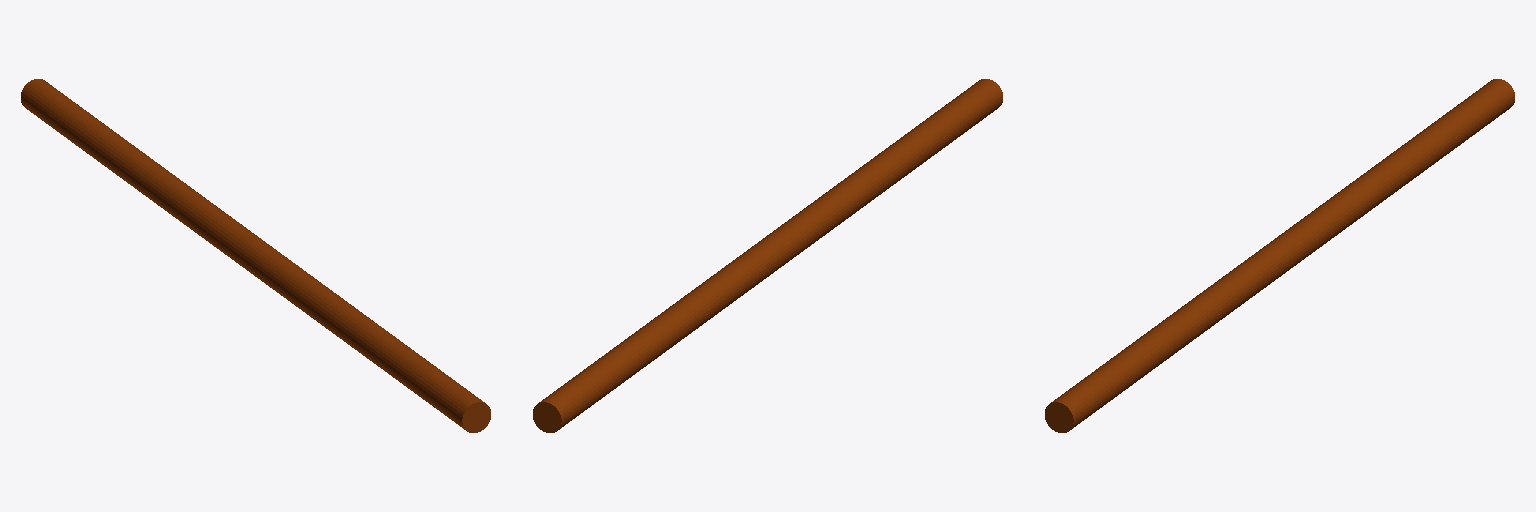
The robot description file, URDF, robot "cylinder":
<?xml version="1.0" ?>
<!-- =================================================================================== -->
<!-- |    This document was autogenerated by xacro from cylinder.xacro                 | -->
<!-- |    EDITING THIS FILE BY HAND IS NOT RECOMMENDED                                 | -->
<!-- =================================================================================== -->
<robot name="cylinder">
  <link name="world"/>
  <link name="base">
    <visual>
      <origin rpy="1.57079633 0 0" xyz="0 0 0"/>
      <geometry>
        <cylinder length="7.07106781185" radius="0.135"/>
      </geometry>
      <material name="cylinder_material">
        <color rgba="0.545 0.271 0.075 1.0"/>
        <texture filename="../textures/tree_bark.jpg"/>
      </material>
    </visual>
    <collision>
      <origin rpy="1.57079633 0 0" xyz="0 0 0"/>
      <geometry>
        <cylinder length="7.07106781185" radius="0.135"/>
      </geometry>
    </collision>
    <inertial>
      <origin rpy="0 0 0" xyz="0 0 0"/>
      <mass value="1"/>
      <inertia ixx="4.1712229166484285" ixy="0.0" ixz="0.0" iyy="4.1712229166484285" iyz="0.0" izz="24.999999999890573"/>
    </inertial>
  </link>
  <joint name="base_joint" type="fixed">
    <parent link="world"/>
    <child link="base"/>
    <origin rpy="0 0 0" xyz="0.0 0.0 0.0"/>
  </joint>
</robot>

--- What the picture shows (computed from the rendered views, not written in the file) ---
The picture shows the robot from 3 angles, left to right: view 1: azimuth 30°, elevation 25°; view 2: azimuth 150°, elevation 25°; view 3: azimuth 330°, elevation 25°; orthographic projection.
Robot: cylinder — 2 links, 1 joints (1 fixed); root link world; default pose: all joints at 0.
Visible links, largest first — view 1: base; view 2: base; view 3: base.
Boxes of the visible links, x1,y1,x2,y2 form: base: [21, 79, 490, 432]; base: [533, 79, 1002, 432]; base: [1045, 79, 1514, 432].
Size in the robot's own frame: 0.27 by 7.07 by 0.27 metres.
Geometry: primitives only (box / cylinder / sphere), no mesh files.
